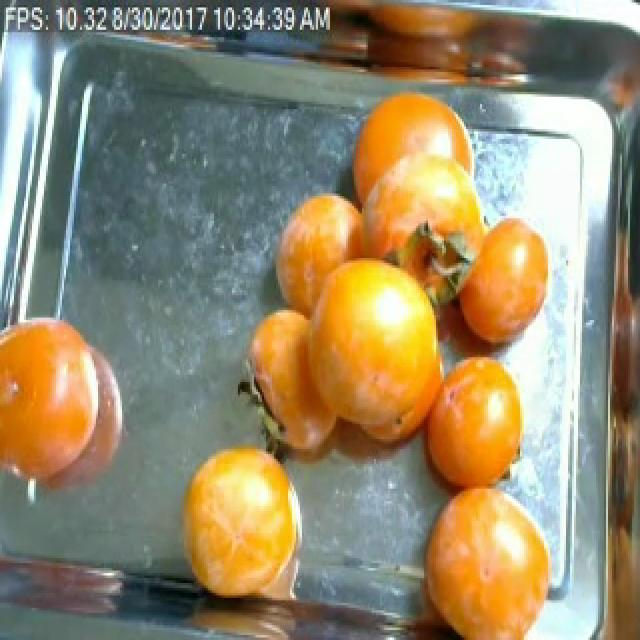Fruit: (162, 427, 318, 628), (332, 82, 490, 268), (0, 302, 136, 508), (402, 469, 564, 640), (258, 176, 394, 352), (402, 345, 540, 511), (438, 198, 564, 374)
